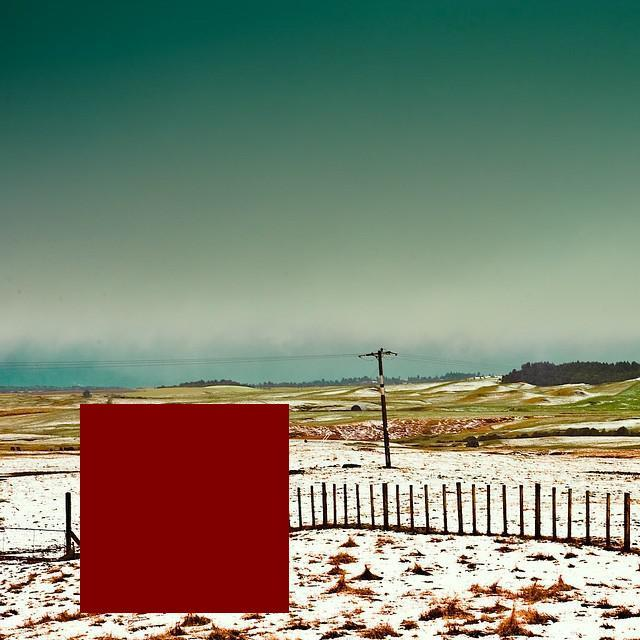RedSquare: (70, 392, 300, 620)
